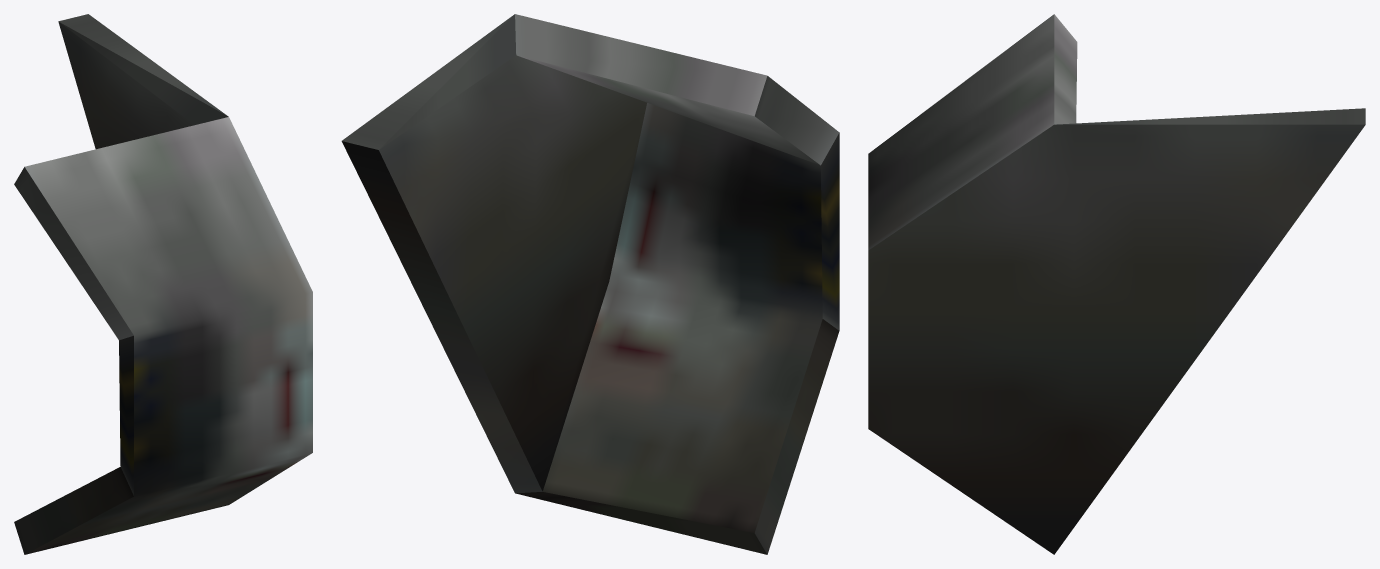
The model's file is Shared - Armor - Tanker Truck - Damage State 48 - CVTanker_d48.glb.
The picture shows the model from 3 angles, left to right: view 1: azimuth 30°, elevation 25°; view 2: azimuth 150°, elevation 25°; view 3: azimuth 270°, elevation 25°; orthographic projection. The views are drawn at different scales.
Parts seen in each view (by area): view 1: CVTANKER_D48; view 2: CVTANKER_D48; view 3: CVTANKER_D48.
Part boxes in pixels (left/top/right/bottom): CVTANKER_D48: left=14, top=14, right=312, bottom=554; CVTANKER_D48: left=341, top=14, right=839, bottom=554; CVTANKER_D48: left=868, top=14, right=1365, bottom=554.
Size of the model in its own units: 4.41 by 8 by 8.38.
Materials: 1 (1 with a texture image).
